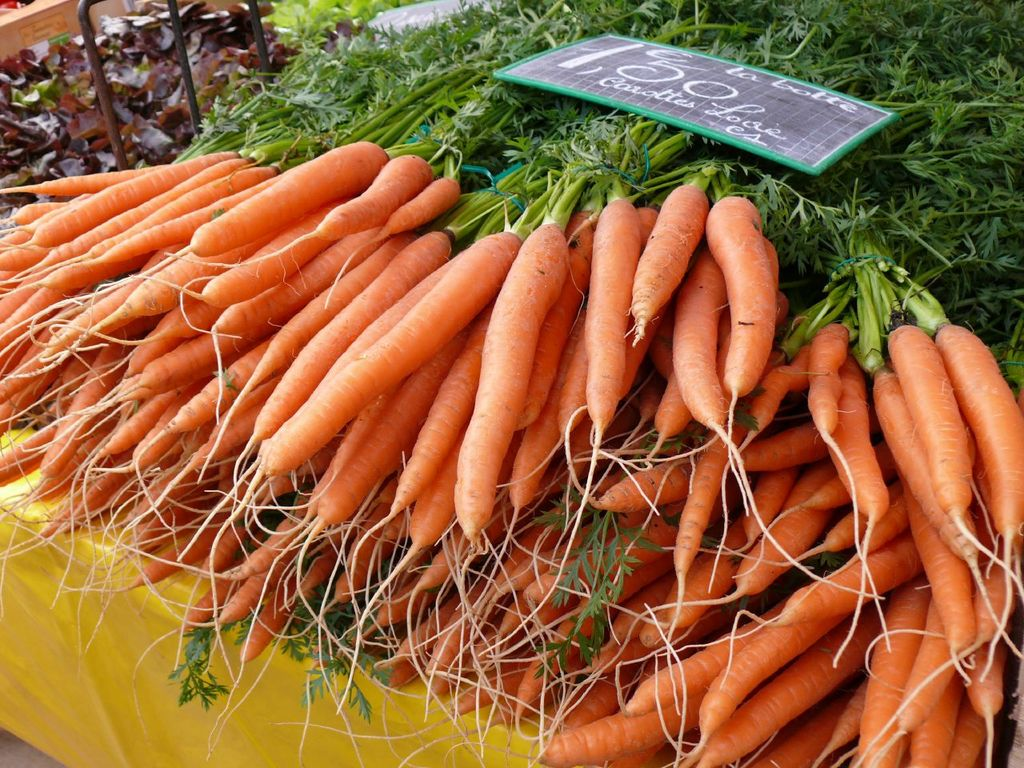Carrot: (0, 0, 1024, 768)
